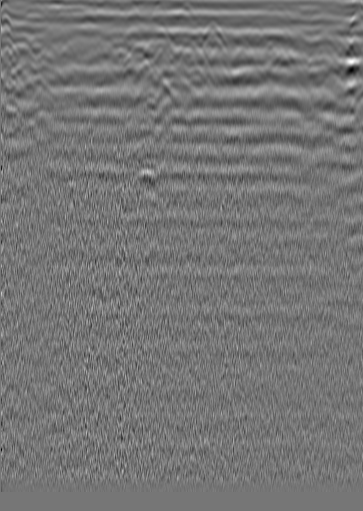가스: (126, 163, 161, 195)
상수: (313, 29, 333, 49)
오수: (30, 42, 50, 62)
우수: (183, 32, 203, 52)
